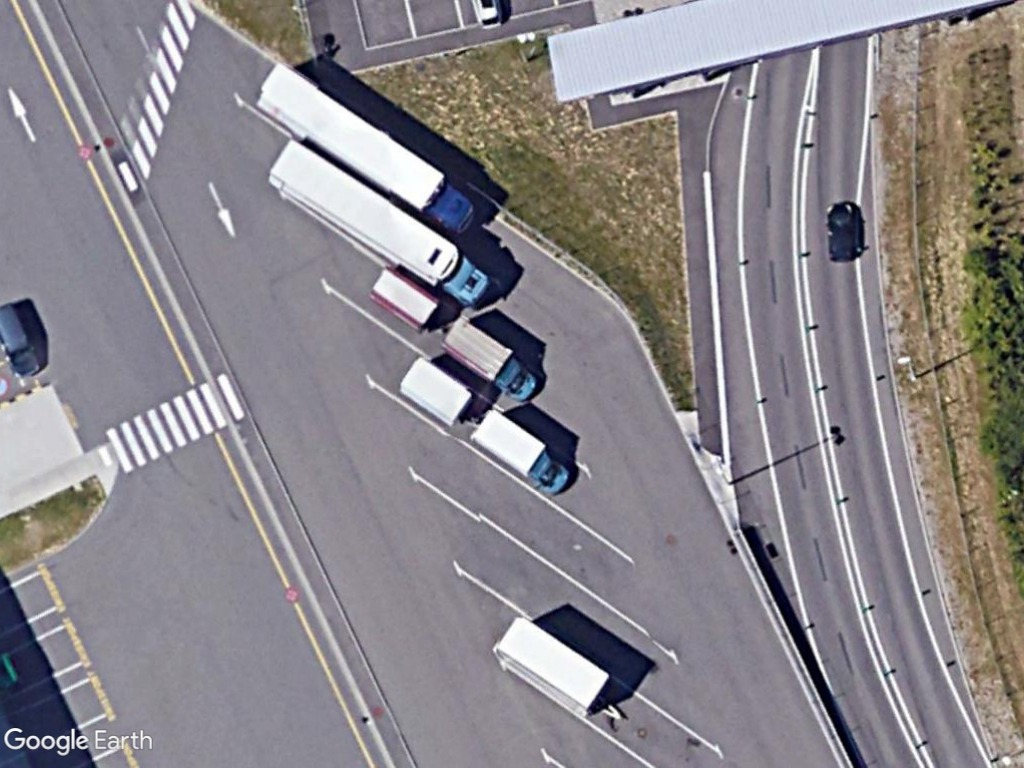longvehicle: (255, 57, 479, 240), (266, 134, 486, 313)
truck: (467, 406, 571, 497), (438, 314, 537, 402)
